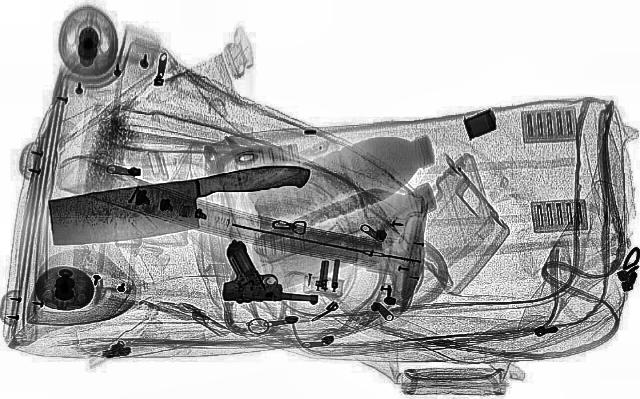Gun: (217, 240, 321, 304)
Knife: (36, 160, 327, 251)
